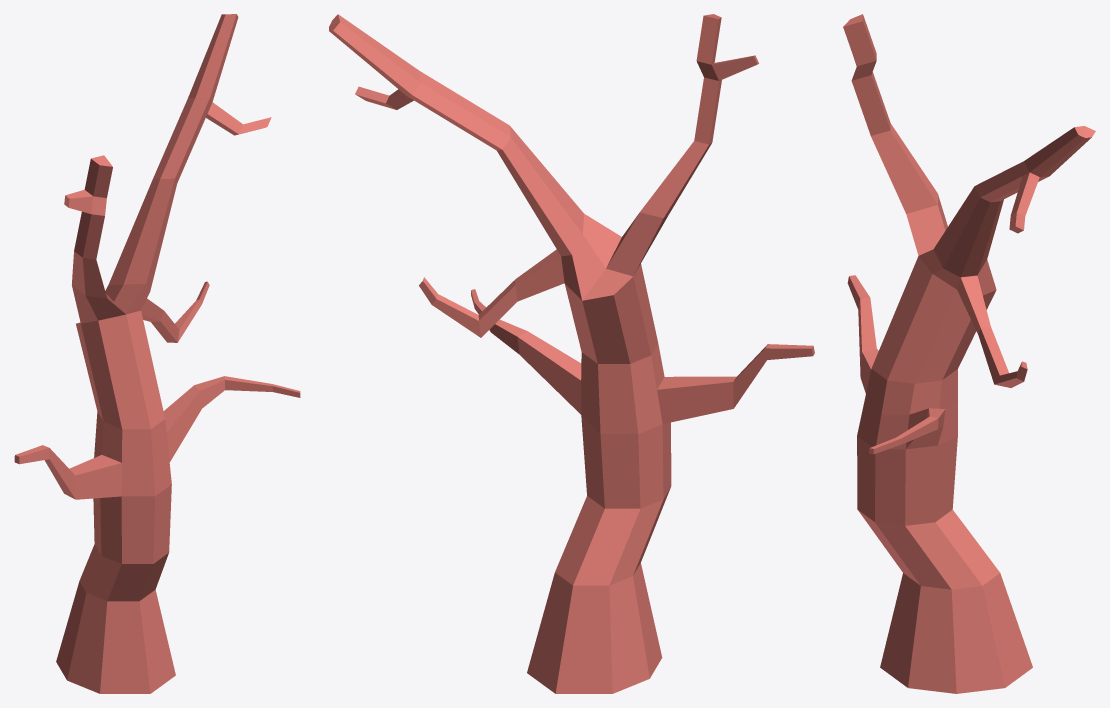
Rendered from 01_06Tree_Brown.fbx.
The picture shows the model from 3 angles, left to right: view 1: azimuth 30°, elevation 25°; view 2: azimuth 150°, elevation 25°; view 3: azimuth 270°, elevation 25°; orthographic projection. The views are drawn at different scales.
Parts seen in each view (by area): view 1: Cube.014; view 2: Cube.014; view 3: Cube.014.
Boxes of the visible parts, x1,y1,x2,y2 form: Cube.014: (14,14,300,693); Cube.014: (329,14,814,693); Cube.014: (843,14,1095,693).
Size of the model in its own units: 110 by 186 by 65.71.
